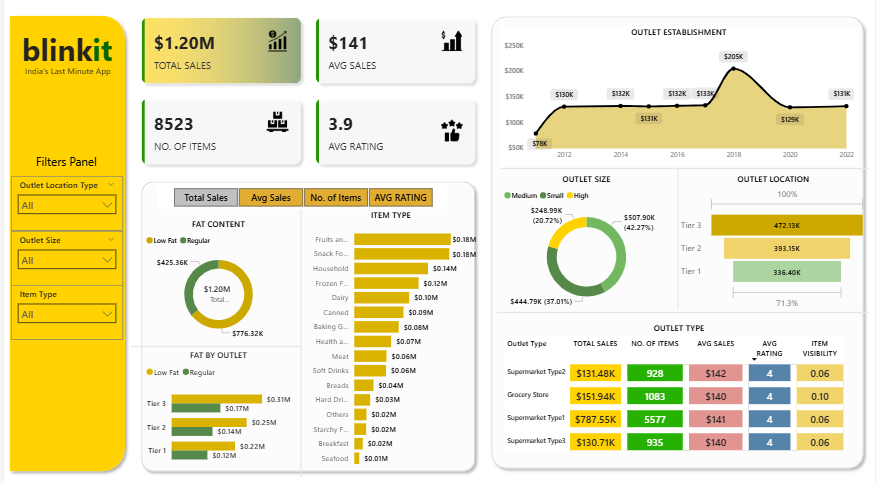

The page's visual inventory and layout, read from the dashboard file:
{"tool":"powerbi","page":{"name":"HOME","canvas":[1400,800],"ordinal":0},"visuals":[{"type":"shape","box":[0,25,203.3,750],"z":0},{"type":"textbox","box":[0,51.7,203.3,116.7],"z":1000},{"type":"textbox","box":[28.3,110,158.3,46.7],"z":2000},{"type":"cardVisual","fields":{"Data":["BlinkIT Grocery Data.Total Sales","BlinkIT Grocery Data.Avg Sales","BlinkIT Grocery Data.No. of Items","BlinkIT Grocery Data.Avg Rating"]},"box":[203.3,21.7,570,270],"z":3000},{"type":"shape","box":[211.7,291.7,553.3,483.3],"z":4000},{"type":"donutChart","title":"FAT CONTENT","fields":{"Y":["BlinkIT Grocery Data.Total Sales"],"Category":["BlinkIT Grocery Data.Item Fat Content"]},"box":[223.3,359.8,242.6,200.8],"z":5000},{"type":"slicer","fields":{"Values":["Metrics.Metrics"]},"box":[246.7,305,465,40],"z":6000},{"type":"cardVisual","fields":{"Data":["BlinkIT Grocery Data.Total Sales"]},"box":[301.2,448.8,81.2,57.5],"z":7000},{"type":"clusteredBarChart","title":"FAT BY OUTLET","fields":{"Y":["BlinkIT Grocery Data.Total Sales"],"Category":["BlinkIT Grocery Data.Outlet Location Type"],"Series":["BlinkIT Grocery Data.Item Fat Content"]},"box":[223.3,570.3,242.6,199.2],"z":8000},{"type":"shape","box":[204,551,274.7,30.5],"z":9000},{"type":"shape","box":[465.9,345.4,22.5,430.5],"z":10000},{"type":"barChart","title":"ITEM TYPE","fields":{"Y":["BlinkIT Grocery Data.Total Sales"],"Category":["BlinkIT Grocery Data.Item Type"]},"box":[479.1,346.1,285.5,424.3],"z":11000},{"type":"shape","box":[774.3,27.3,615.3,743.8],"z":12000},{"type":"lineChart","title":"OUTLET ESTABLISHMENT","fields":{"Category":["BlinkIT Grocery Data.Outlet Establishment Year"],"Y":["BlinkIT Grocery Data.Total Sales"]},"box":[798.4,51.4,571.9,224.9],"z":13000},{"type":"shape","box":[798.4,269.9,591.2,20.9],"z":14000},{"type":"donutChart","title":"OUTLET SIZE","fields":{"Y":["BlinkIT Grocery Data.Total Sales"],"Category":["BlinkIT Grocery Data.Outlet Size"]},"box":[798.4,287.6,274.7,224.9],"z":15000},{"type":"shape","box":[1071.5,281.1,22.5,224.9],"z":16000},{"type":"funnel","title":"OUTLET LOCATION","fields":{"Category":["BlinkIT Grocery Data.Outlet Location Type"],"Y":["Sum(BlinkIT Grocery Data.Sales)"]},"box":[1082.7,287.6,306.8,224.9],"z":17000},{"type":"shape","box":[792,496.4,597.6,30.5],"z":18000},{"type":"pivotTable","title":"OUTLET TYPE","fields":{"Rows":["BlinkIT Grocery Data.Outlet Type"],"Values":["BlinkIT Grocery Data.Total Sales","BlinkIT Grocery Data.No. of Items","BlinkIT Grocery Data.Avg Sales","BlinkIT Grocery Data.AVG  RATING","Avg(BlinkIT Grocery Data.Item Visibility)"]},"box":[798.4,526.9,571.9,220.1],"z":19000},{"type":"slicer","fields":{"Values":["BlinkIT Grocery Data.Outlet Location Type"]},"box":[11.2,292.4,179.9,88.4],"z":20000},{"type":"slicer","fields":{"Values":["BlinkIT Grocery Data.Outlet Size"]},"box":[11.2,380.7,179.9,88.4],"z":21000},{"type":"slicer","fields":{"Values":["BlinkIT Grocery Data.Item Type"]},"box":[11.2,467.5,179.9,88.4],"z":22000},{"type":"textbox","box":[21.5,250.3,158.4,39.1],"z":23000}]}

Visuals, with their boxes on the page's 1400x800 design canvas (x1, y1, x2, y2). These are canvas units, not pixel positions in the 876x483 screenshot, which may show the page scaled, cropped or inside an application window:
shape: <bbox>0, 25, 203, 775</bbox>
textbox: <bbox>0, 52, 203, 168</bbox>
textbox: <bbox>28, 110, 187, 157</bbox>
cardVisual - BlinkIT Grocery Data.Total Sales x BlinkIT Grocery Data.Avg Sales: <bbox>203, 22, 773, 292</bbox>
shape: <bbox>212, 292, 765, 775</bbox>
"FAT CONTENT" donutChart: <bbox>223, 360, 466, 561</bbox>
slicer - Metrics.Metrics: <bbox>247, 305, 712, 345</bbox>
cardVisual - BlinkIT Grocery Data.Total Sales: <bbox>301, 449, 382, 506</bbox>
"FAT BY OUTLET" clusteredBarChart: <bbox>223, 570, 466, 770</bbox>
shape: <bbox>204, 551, 479, 582</bbox>
shape: <bbox>466, 345, 488, 776</bbox>
"ITEM TYPE" barChart: <bbox>479, 346, 765, 770</bbox>
shape: <bbox>774, 27, 1390, 771</bbox>
"OUTLET ESTABLISHMENT" lineChart: <bbox>798, 51, 1370, 276</bbox>
shape: <bbox>798, 270, 1390, 291</bbox>
"OUTLET SIZE" donutChart: <bbox>798, 288, 1073, 512</bbox>
shape: <bbox>1072, 281, 1094, 506</bbox>
"OUTLET LOCATION" funnel: <bbox>1083, 288, 1390, 512</bbox>
shape: <bbox>792, 496, 1390, 527</bbox>
"OUTLET TYPE" pivotTable: <bbox>798, 527, 1370, 747</bbox>
slicer - BlinkIT Grocery Data.Outlet Location Type: <bbox>11, 292, 191, 381</bbox>
slicer - BlinkIT Grocery Data.Outlet Size: <bbox>11, 381, 191, 469</bbox>
slicer - BlinkIT Grocery Data.Item Type: <bbox>11, 468, 191, 556</bbox>
textbox: <bbox>22, 250, 180, 289</bbox>
